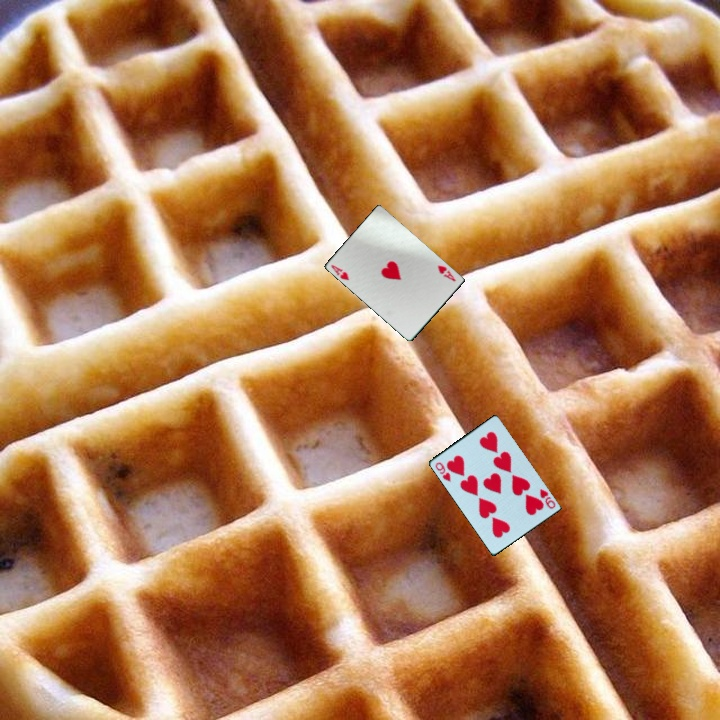9h: (536, 485, 558, 512), (431, 459, 453, 485)
Ah: (327, 261, 352, 283), (434, 262, 458, 284)
